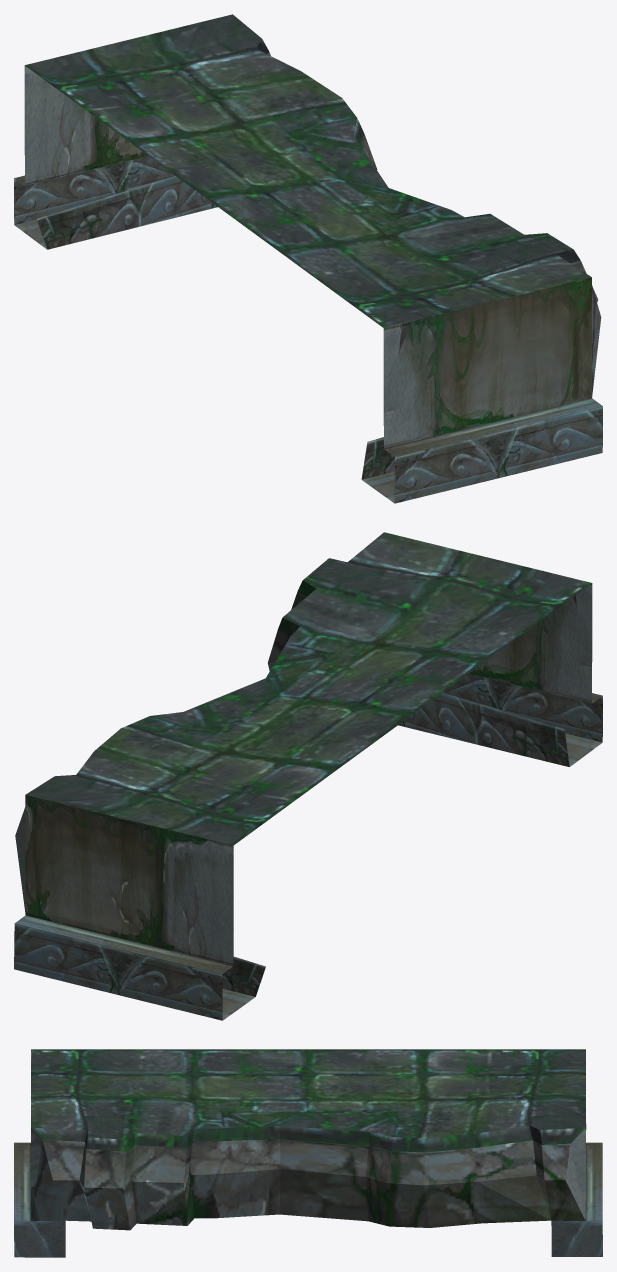
File: stemple_bridgesmall_cap_01.fbx
The picture shows the model from 3 angles, top to bottom: view 1: azimuth 30°, elevation 25°; view 2: azimuth 150°, elevation 25°; view 3: azimuth 270°, elevation 25°; orthographic projection. The views are drawn at different scales.
Parts seen in each view (by area): view 1: obj3; view 2: obj3; view 3: obj3.
Boxes of the visible parts, left/top/right/bottom form: obj3: left=14, top=14, right=602, bottom=503; obj3: left=14, top=532, right=602, bottom=1020; obj3: left=14, top=1049, right=602, bottom=1257.
Bounding box in the file's own units: 2.01 × 1.25 × 5.12.
